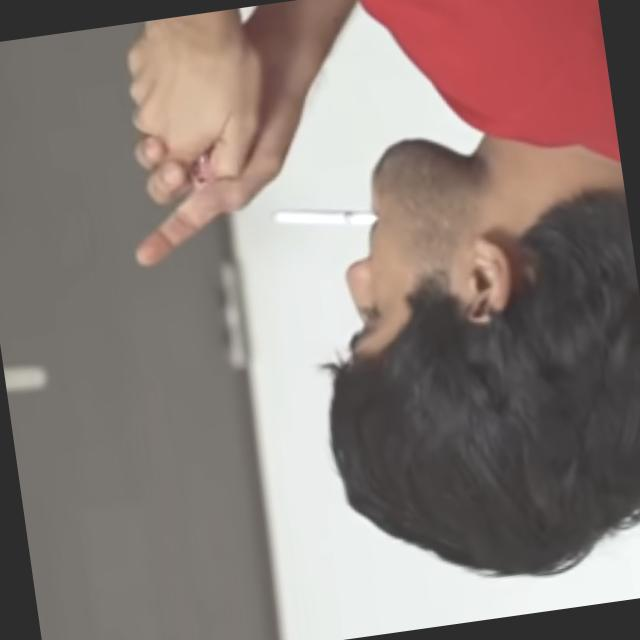smoke: (268, 175, 370, 252)
